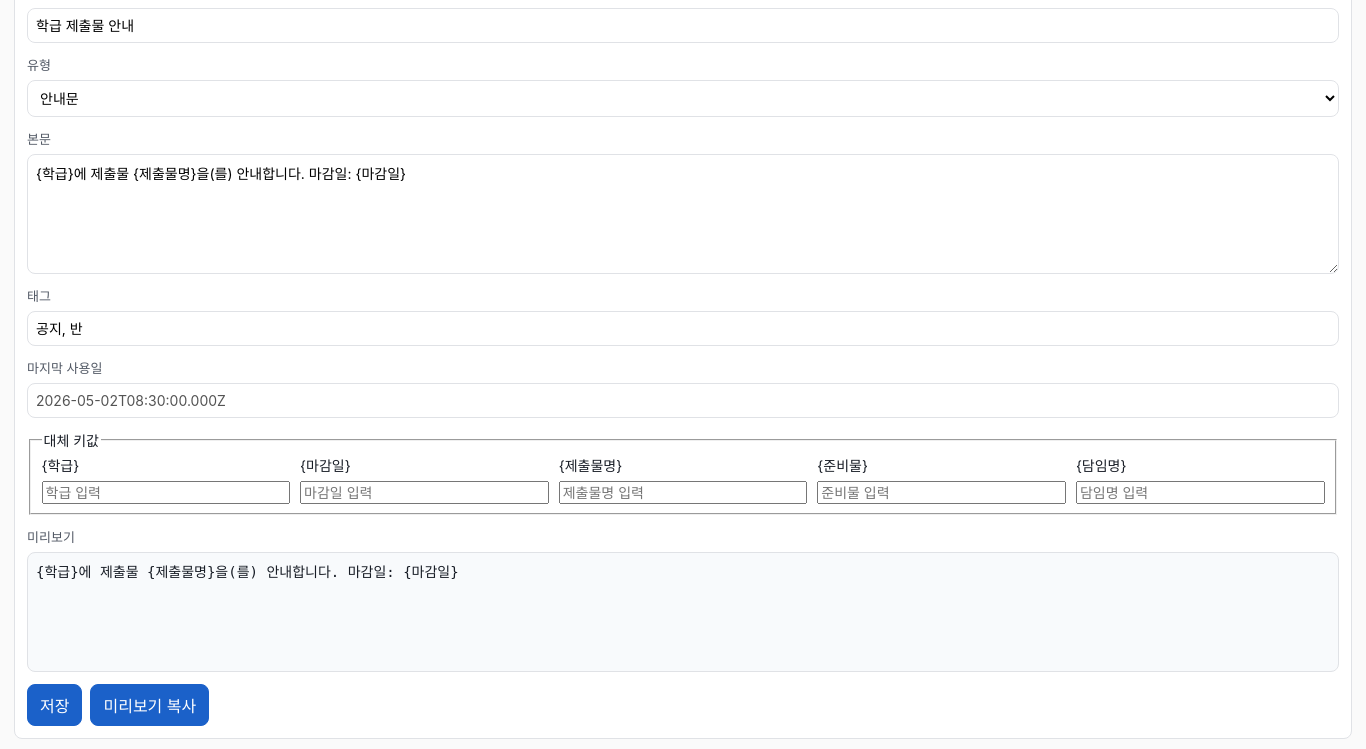
Test case: TemplatesPage clipboard interactions › shows alert when clipboard API is unavailable and does not throw
(page scrolled)
Click the button "미리보기 복사" at (150, 704), box top-left (90, 684), bottom-right (209, 726)
(page scrolled)
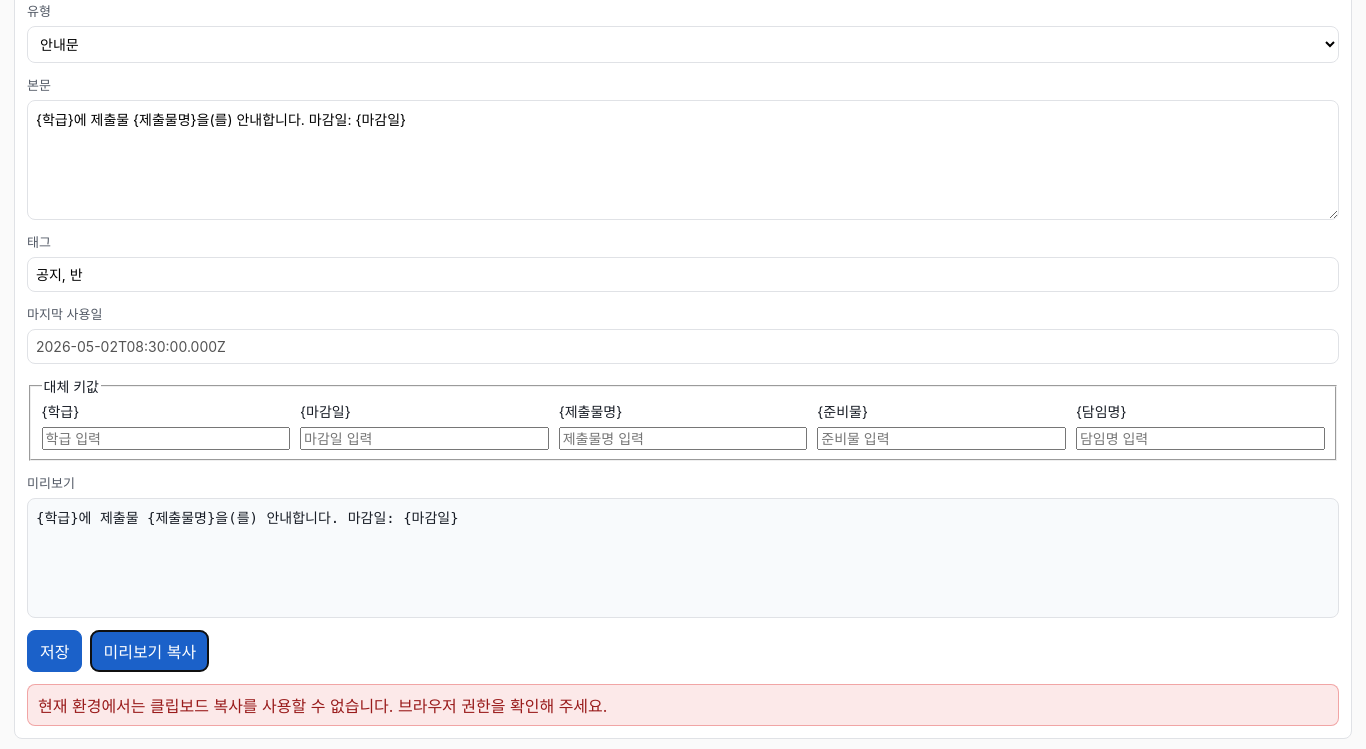
Result: the message shows "현재 환경에서는 클립보드 복사를 사용할 수 없습니다." at top-left (38, 696), bottom-right (607, 716)
